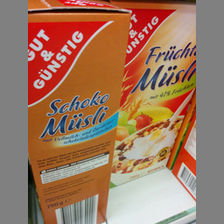cereal: (29, 9, 130, 224), (110, 2, 197, 187)
